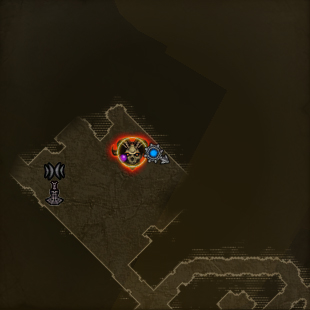Guardian: (109, 135, 154, 172)
